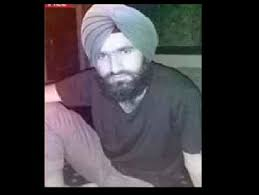helmet: (83, 4, 161, 99)
